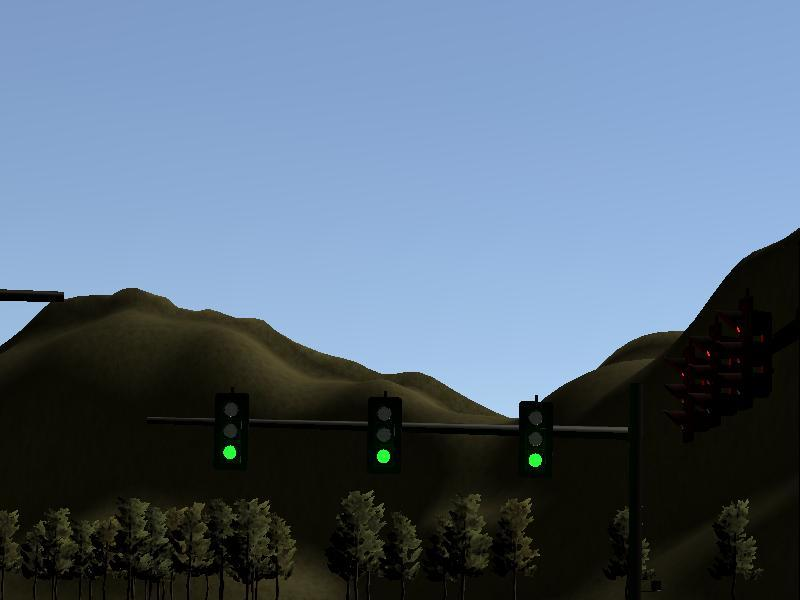Green: (212, 394, 249, 473), (516, 400, 553, 479), (364, 395, 401, 474)
